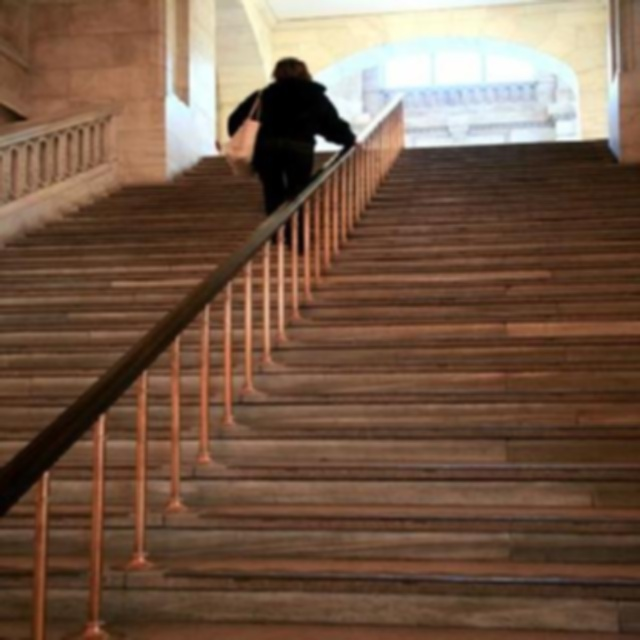stair: (0, 137, 640, 640)
